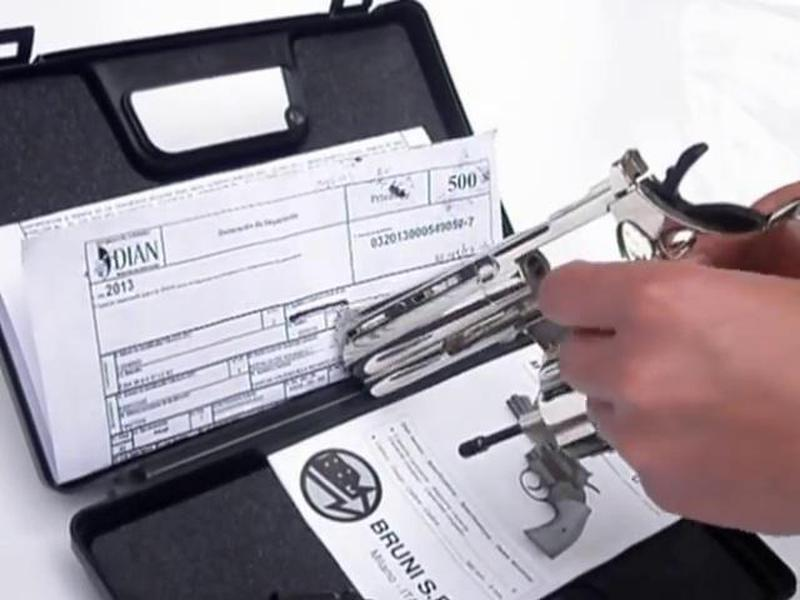Revolver: (308, 119, 800, 474)
